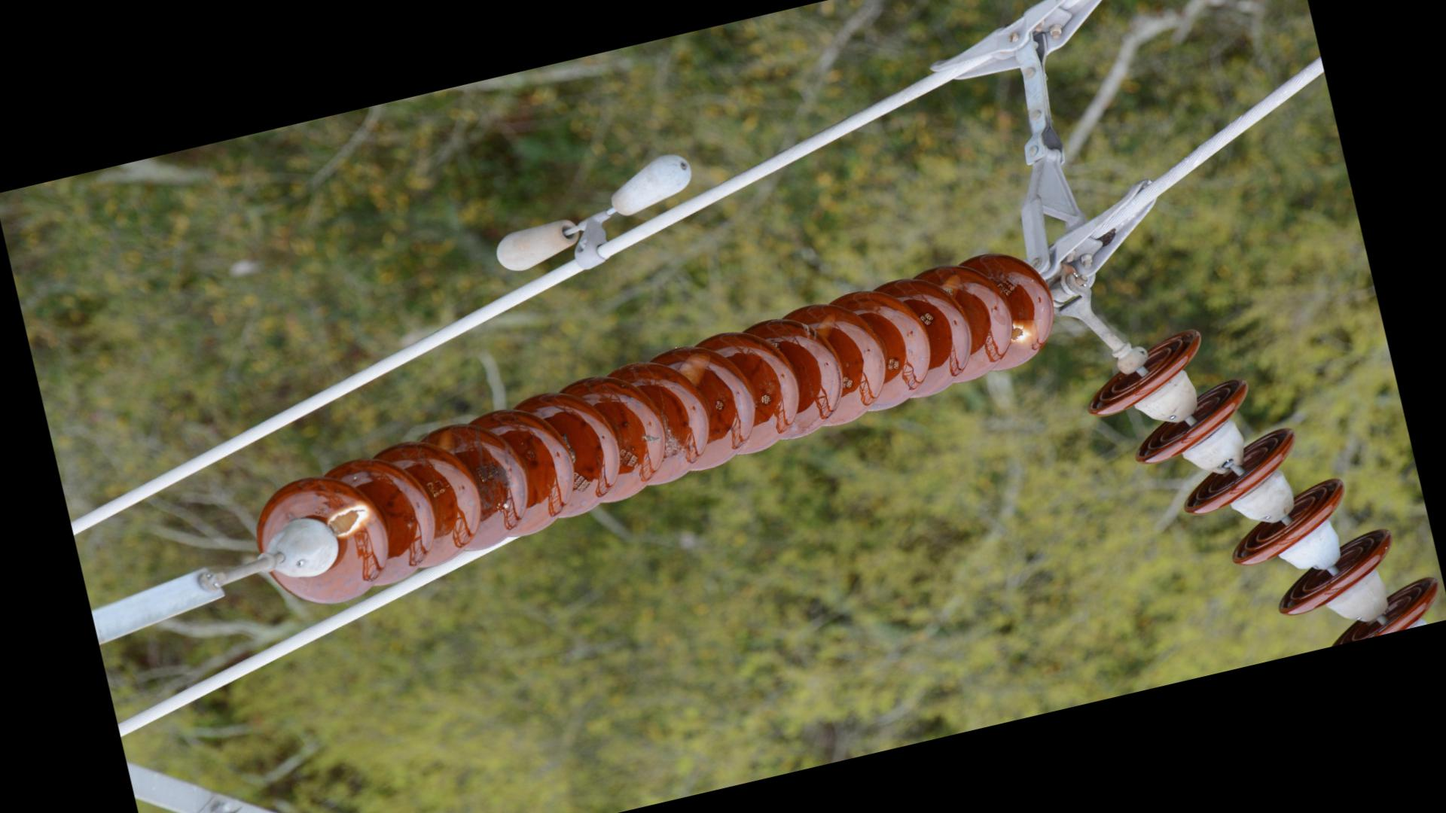damper: (477, 144, 715, 295)
